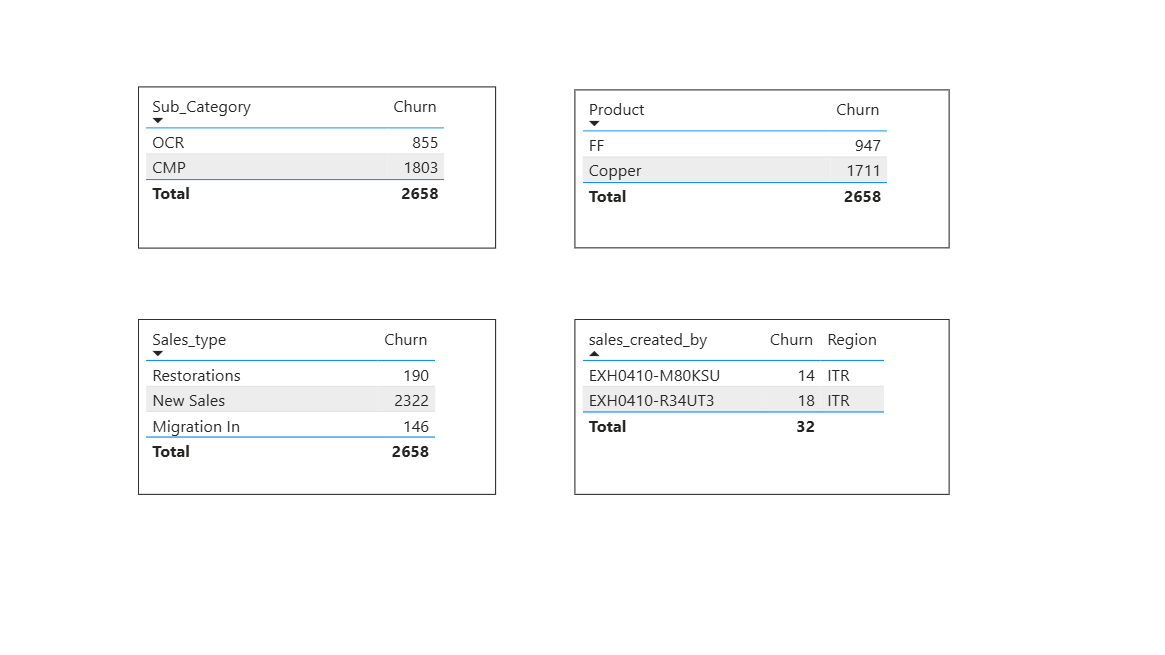

The dashboard page shown, as its layout file describes it:
{"tool":"powerbi","page":{"name":"Page 2","canvas":[960,720],"ordinal":1},"visuals":[{"type":"tableEx","fields":{"Values":["churn.Churn_Sub_Category","churn.Billing_Account_Id"]},"box":[113.9,72.2,294.4,133.3],"z":0},{"type":"tableEx","fields":{"Values":["churn.sales.Sales_acquisition_type","churn.Billing_Account_Id"]},"box":[113.9,263.9,294.4,144.4],"z":1000},{"type":"tableEx","fields":{"Values":["churn.sales.Product","churn.Billing_Account_Id"]},"box":[472.2,75,308.3,130.6],"z":2000},{"type":"tableEx","fields":{"Values":["churn.sales.sales_created_by","churn.Billing_Account_Id","churn.location.Region_Name"]},"box":[472.2,263.9,308.3,144.4],"z":3000}]}

Visuals, with their boxes on the page's 960x720 design canvas (x1, y1, x2, y2). These are canvas units, not pixel positions in the 1165x655 screenshot, which may show the page scaled, cropped or inside an application window:
tableEx - churn.Churn_Sub_Category x churn.Billing_Account_Id: [x1=114, y1=72, x2=408, y2=206]
tableEx - churn.sales.Sales_acquisition_type x churn.Billing_Account_Id: [x1=114, y1=264, x2=408, y2=408]
tableEx - churn.sales.Product x churn.Billing_Account_Id: [x1=472, y1=75, x2=780, y2=206]
tableEx - churn.sales.sales_created_by x churn.Billing_Account_Id: [x1=472, y1=264, x2=780, y2=408]
